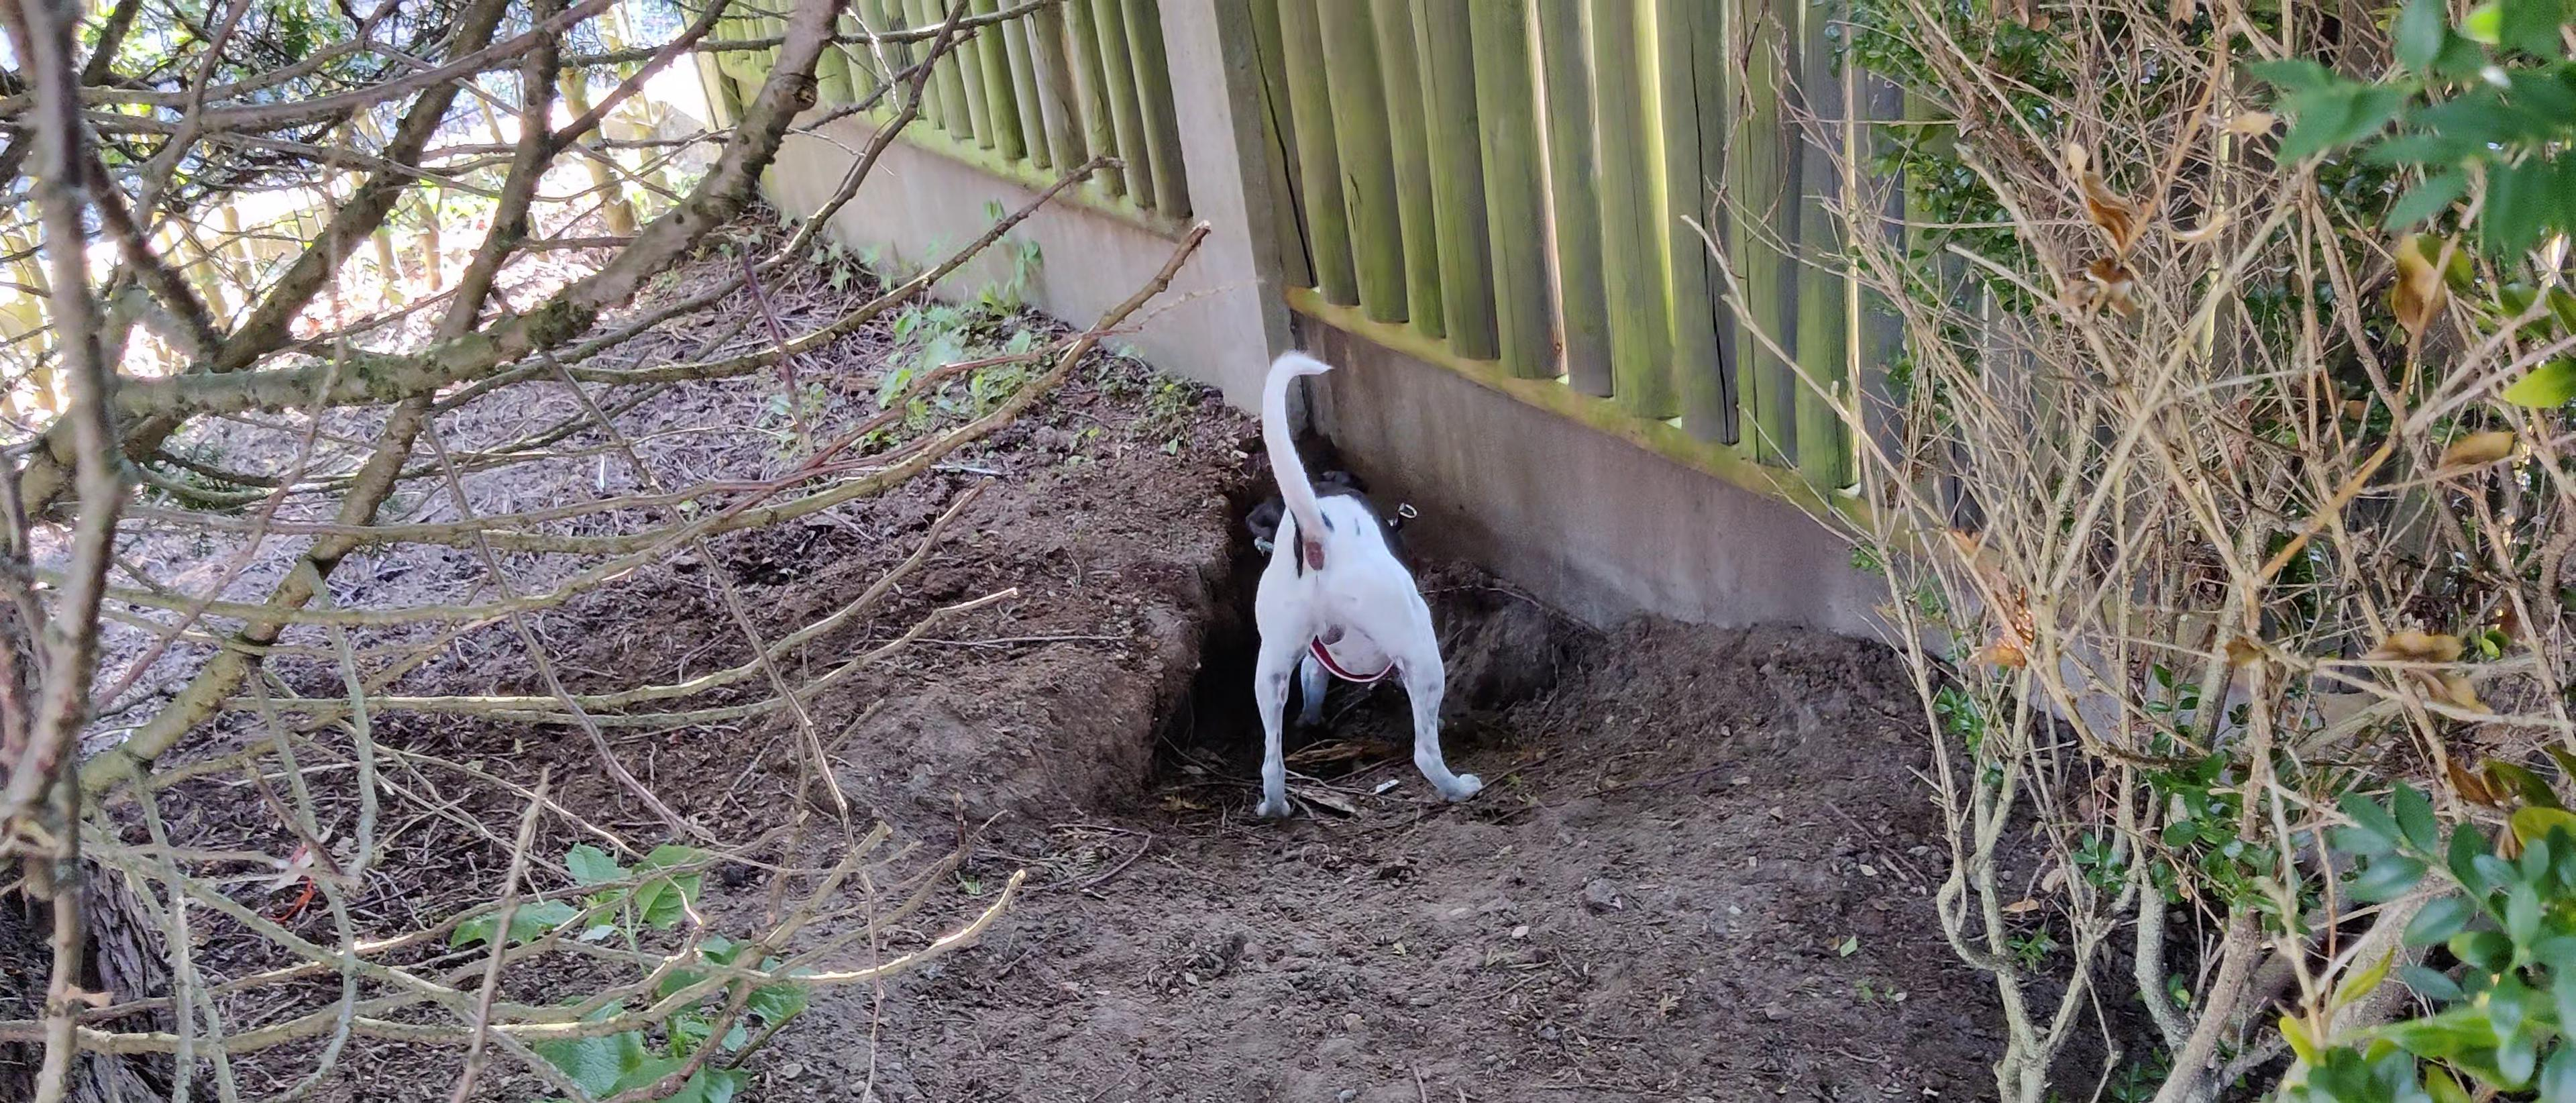Dog: (1229, 322, 1483, 827)
